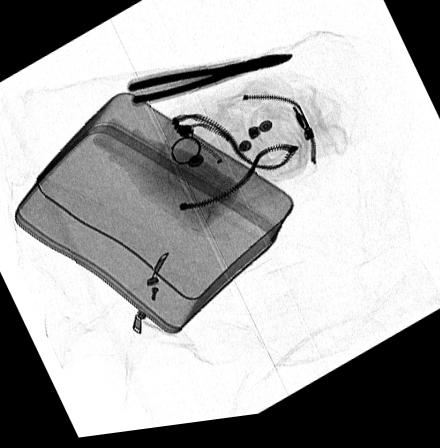Pliers: (125, 60, 296, 109)
